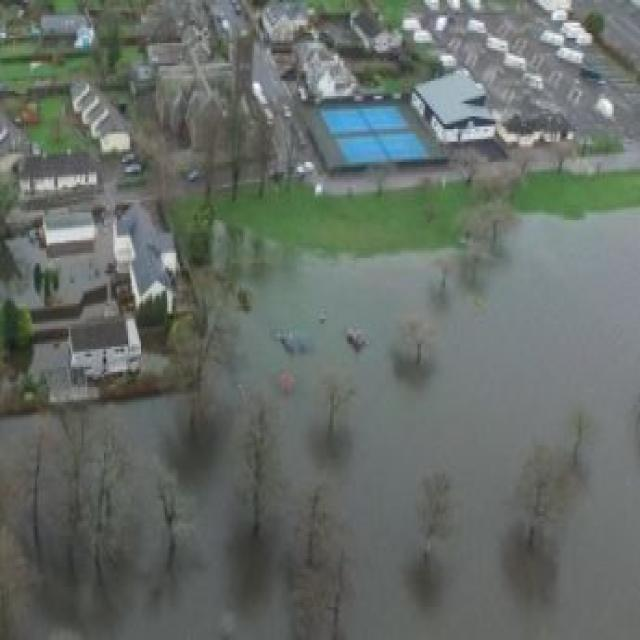flooded_areas: (0, 192, 636, 629)
